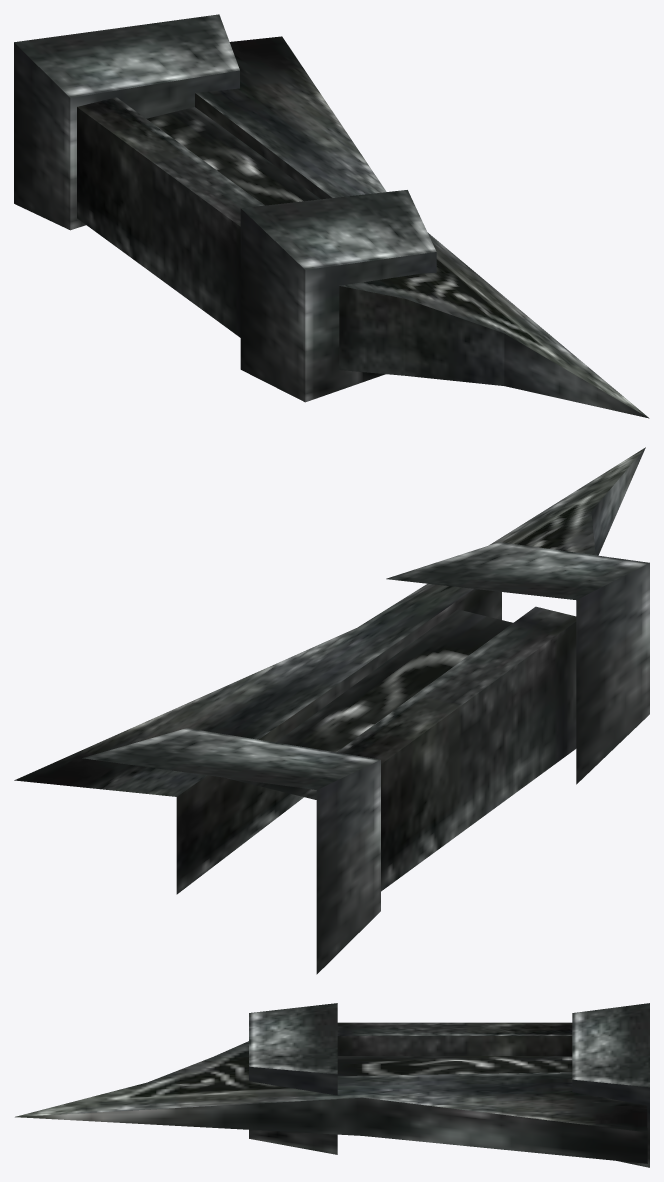
3 views of the same model, one above another, from view 1: azimuth 30°, elevation 25°; view 2: azimuth 150°, elevation 25°; view 3: azimuth 270°, elevation 25° (orthographic). The views are drawn at different scales.
Parts seen in each view (by area): view 1: model_Object01; view 2: model_Object01; view 3: model_Object01.
Boxes of the visible parts, <box> form: model_Object01: <box>14,14,649,418</box>; model_Object01: <box>14,447,649,974</box>; model_Object01: <box>15,1003,649,1167</box>.
Size of the model in its own units: 1.83 by 1.06 by 5.51.
1 material, 1 textured.
